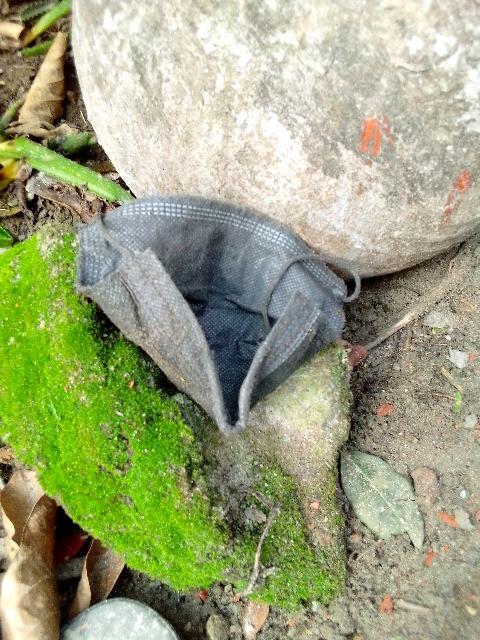mask: (90, 203, 335, 385)
